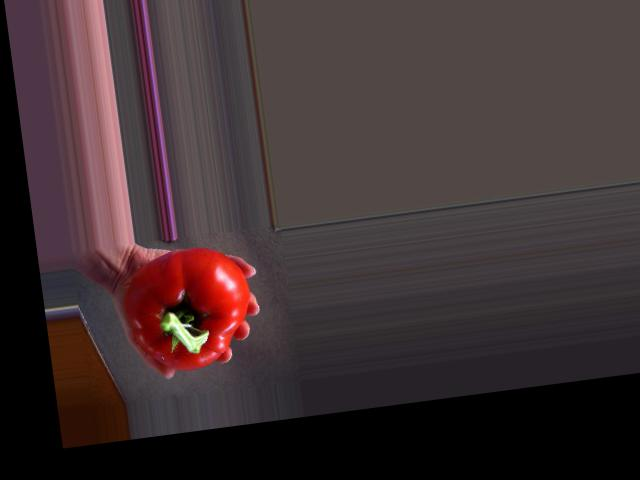tomato: (119, 241, 258, 377)
